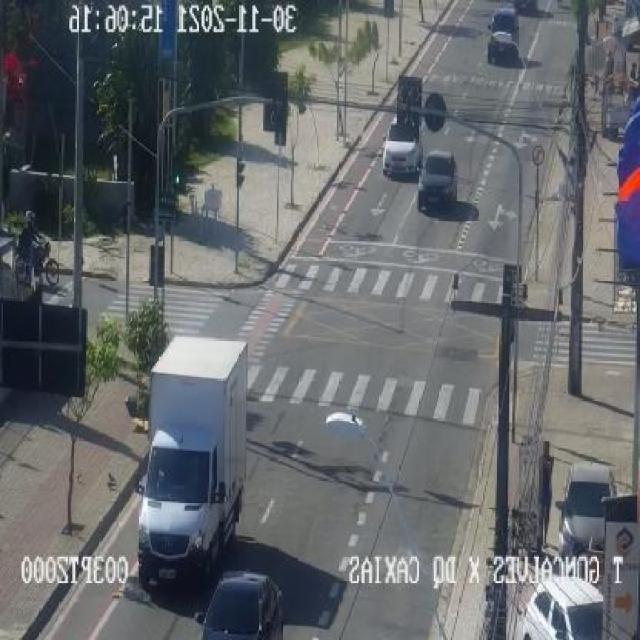Car: (419, 149, 458, 210), (381, 122, 424, 174)
Truck: (137, 335, 247, 581)
Van: (486, 7, 521, 61)
